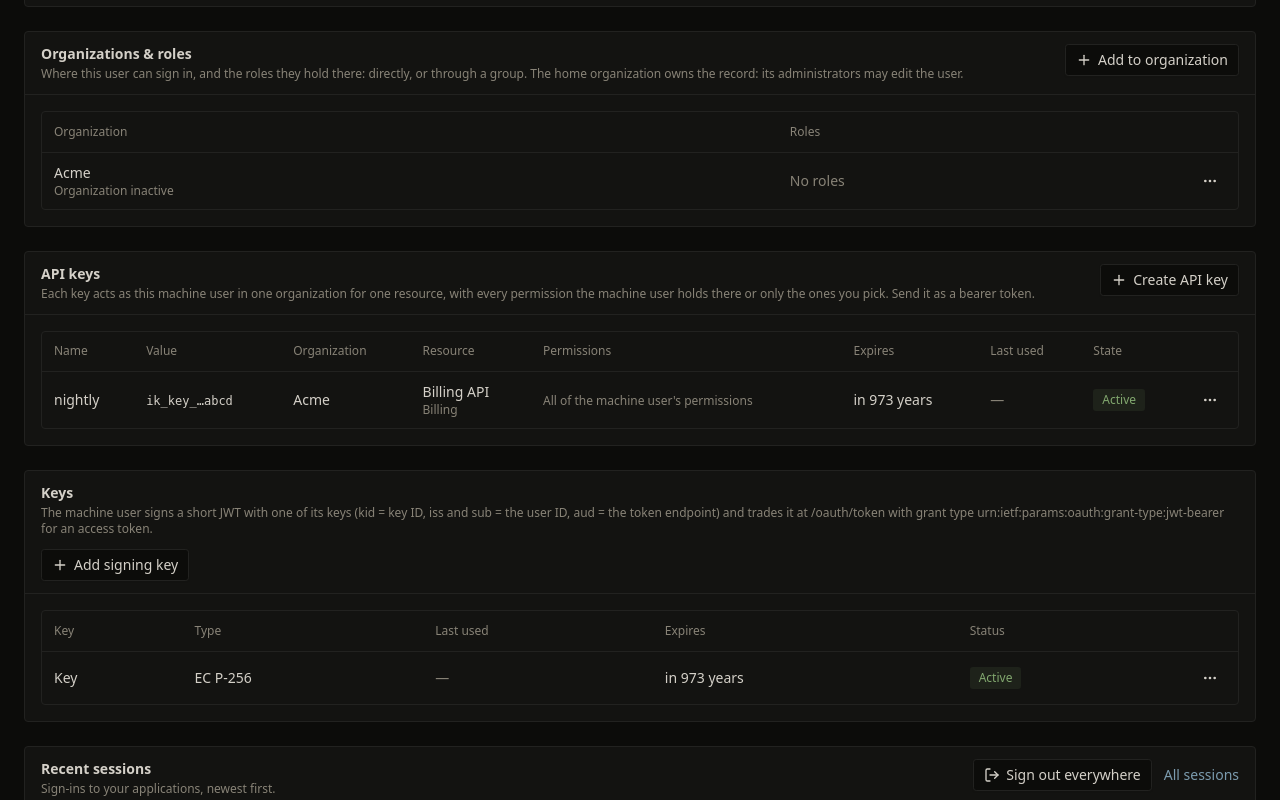
Test: shows a machine user with its API keys instead of second factors and revokes one
(page scrolled)
expect the text "nightly" is shown: met, box 54,390 -> 99,409
expect the link "Billing API" is shown: met, box 422,382 -> 489,401
Click the button named "Actions for nightly": x=1210, y=400 1194,384 -> 1226,416
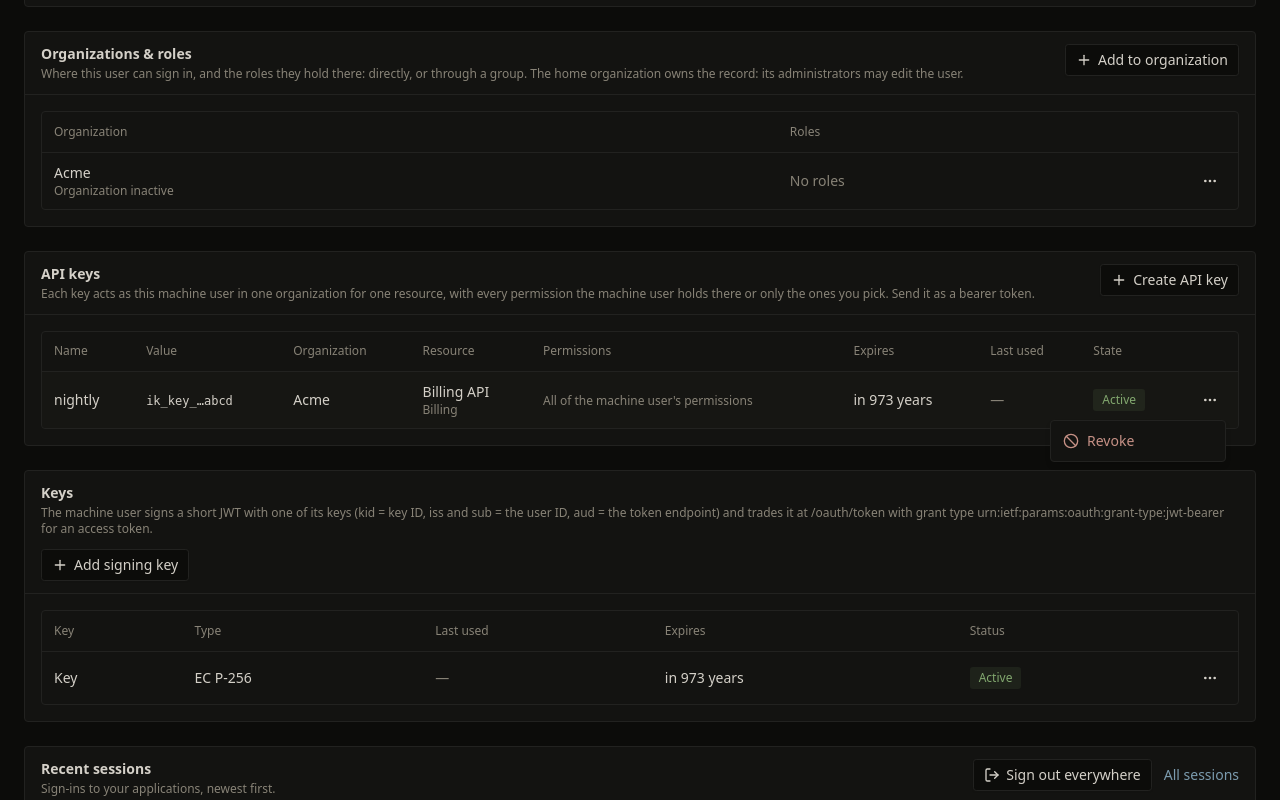
Click the menu item "Revoke": x=1099, y=440 1063,431 -> 1134,450
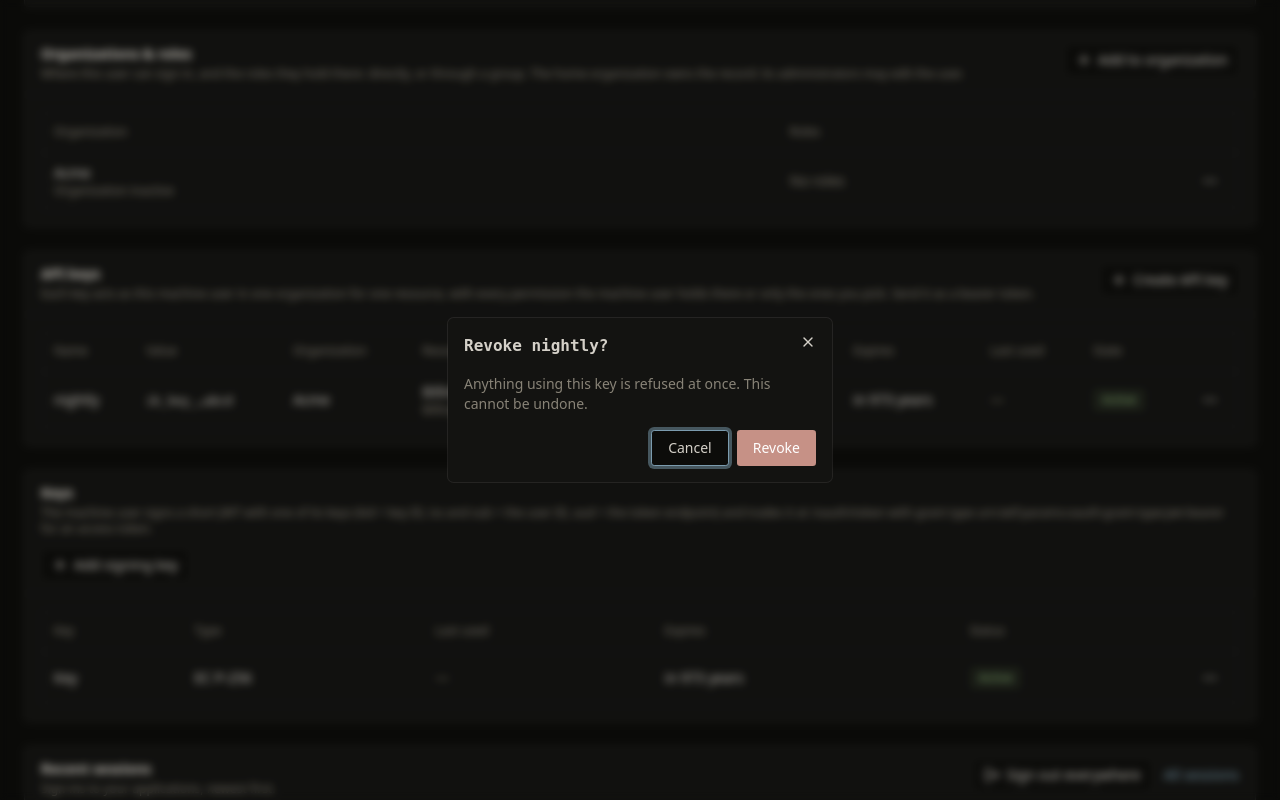
Click the button "Revoke": x=776, y=448 737,430 -> 816,466
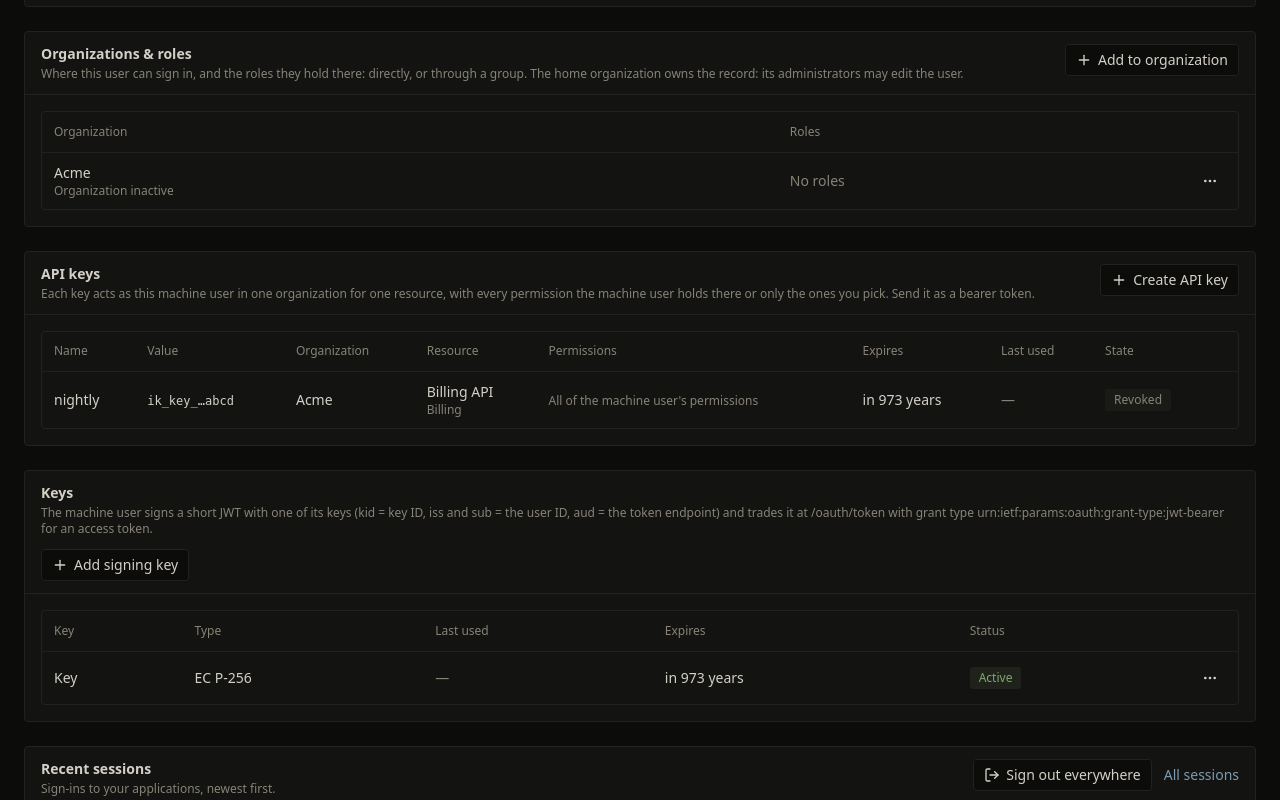
expect the text "Revoked" is shown: met, box 1105,389 -> 1171,411
